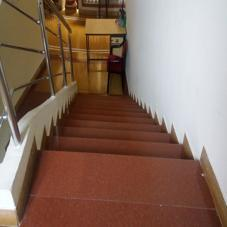Stair Down: (40, 93, 200, 165)
